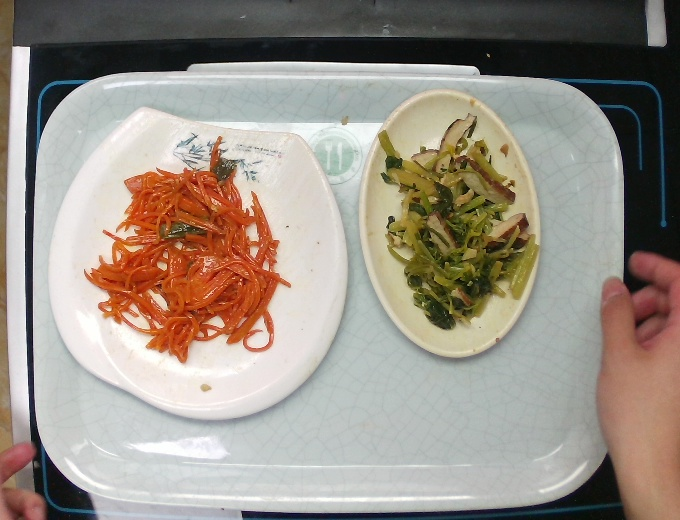JYsf-Mian_Pan: (46, 100, 352, 421)
JYsf-Tuo_Yuan_Wan: (357, 89, 542, 363)
